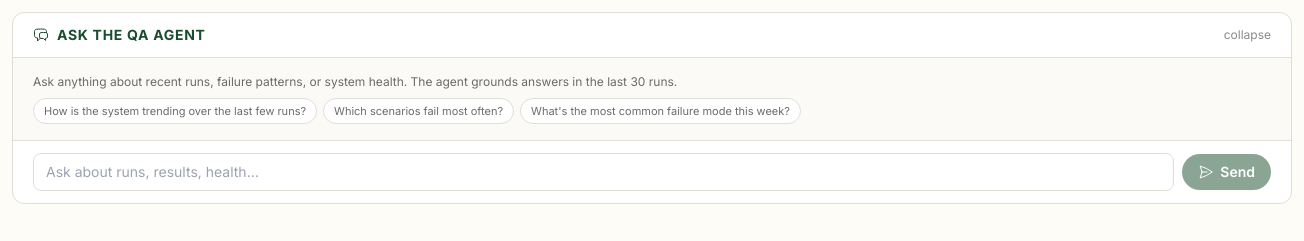
Scenario: ChatPanel › sends a typed question and renders the answer
The image size is (1304, 241).
In the field with placeholder "Ask about runs, results, health…": (604, 172) [33,153,1174,191], type "how is health?"
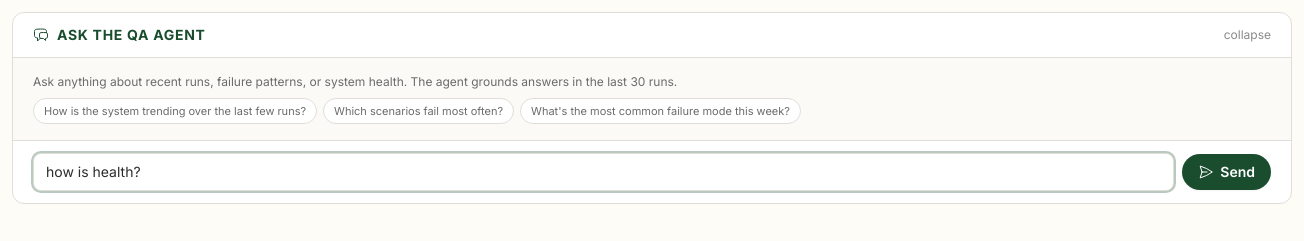
Click the button "Send": (1227, 172) [1182,154,1271,190]
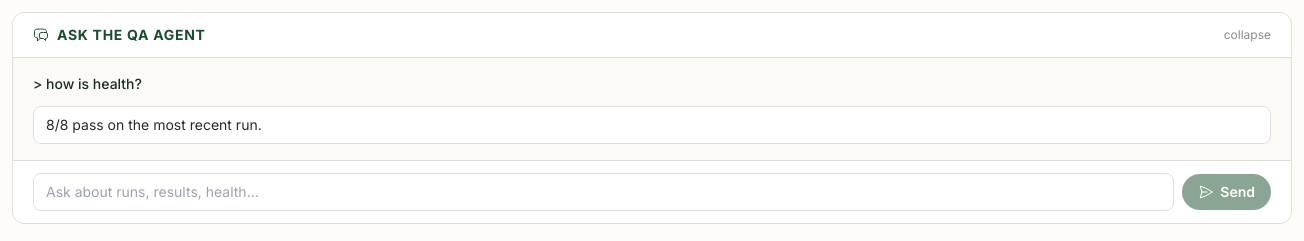
Expected: the text "8/8 pass on the most recent run." is shown, [33,106,1271,144]
Expected: the text "> how is health?" is shown, [33,75,142,92]
